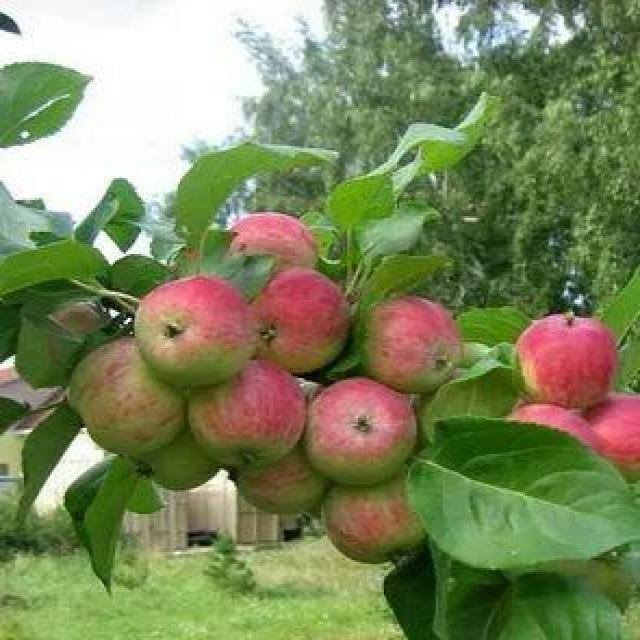Fresh Apple: (137, 282, 253, 380), (307, 390, 418, 487), (70, 362, 182, 456), (522, 302, 616, 405), (248, 282, 344, 370), (194, 377, 294, 453), (370, 302, 453, 386)
